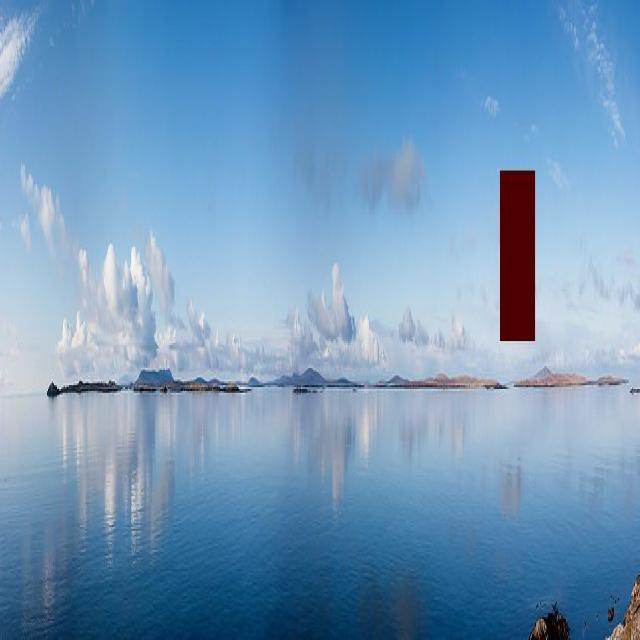RedSquare: (497, 150, 540, 354)
